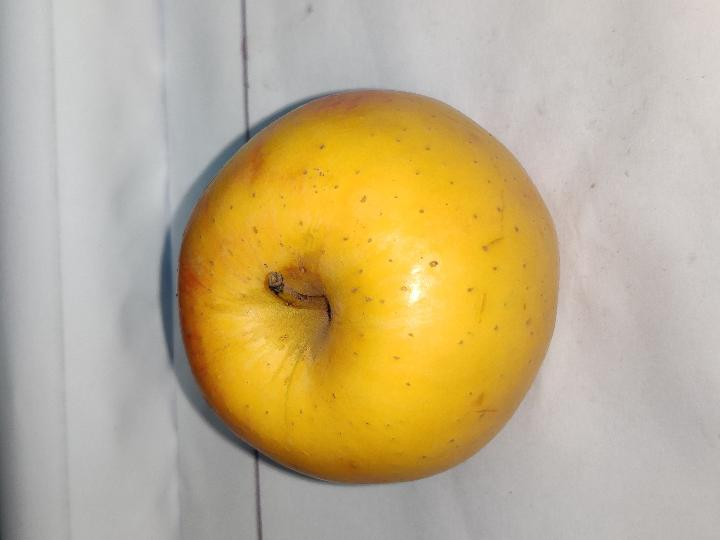apple: (178, 91, 558, 483)
